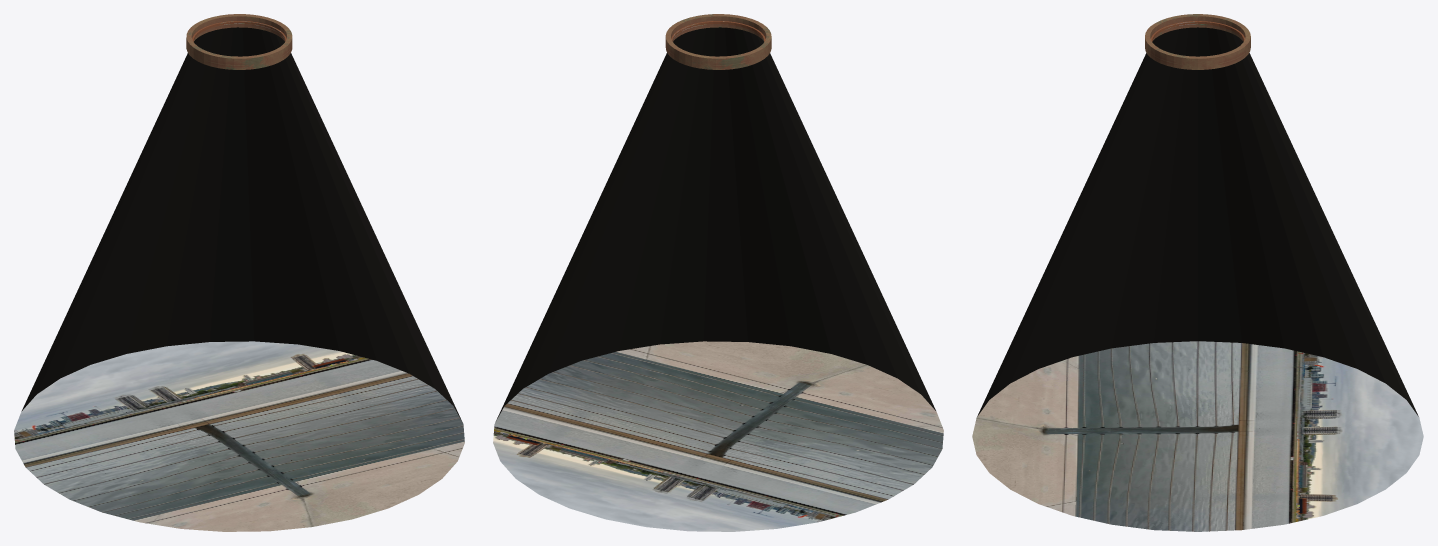
File: porthole_img_s.glb
3 views of the same model, side by side, from view 1: azimuth 30°, elevation 25°; view 2: azimuth 150°, elevation 25°; view 3: azimuth 270°, elevation 25° (orthographic).
Parts seen in each view (by area): view 1: Circle, Object.1; view 2: Circle, Object.1; view 3: Circle, Object.1.
Boxes of the visible parts, left/top/right/bottom form: Circle: left=14, top=27, right=464, bottom=531; Object.1: left=186, top=14, right=292, bottom=69; Circle: left=493, top=27, right=943, bottom=531; Object.1: left=665, top=14, right=771, bottom=69; Circle: left=972, top=27, right=1423, bottom=531; Object.1: left=1145, top=14, right=1250, bottom=69.
Bounding box in the file's own units: 12.33 × 12.05 × 12.33.
Materials: 4 (3 with a texture image).
